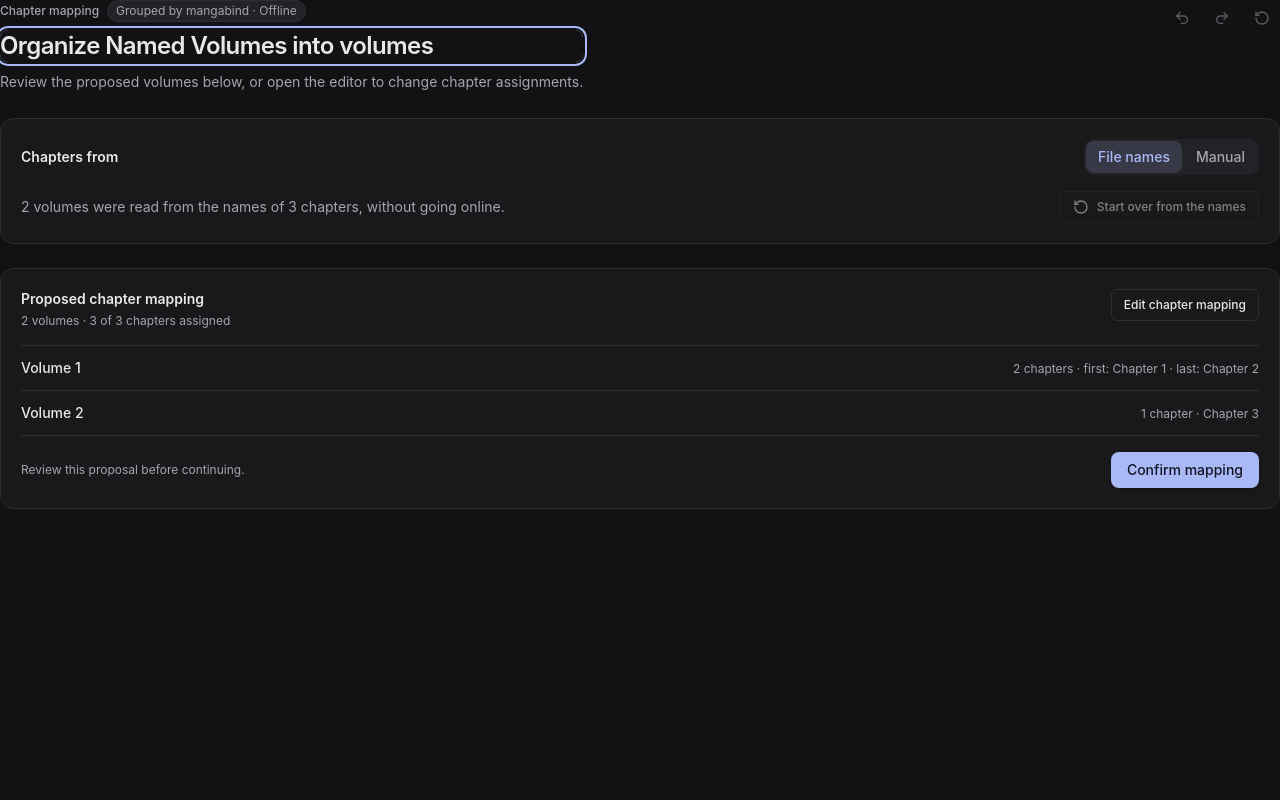
mapping editor › opens on mangabind's own grouping, ready to confirm, and says so only while it is unchanged
The width and height of the screenshot is (1280, 800).
Expected: the text "Grouped by mangabind · Offline" is shown, [107,0,306,22]
Expected: the text "2 volumes · 3 of 3 chapters assigned" is shown, [21,313,230,329]
Click the button "Edit chapter mapping".
click(1185, 305)  # box [1111,289,1259,321]
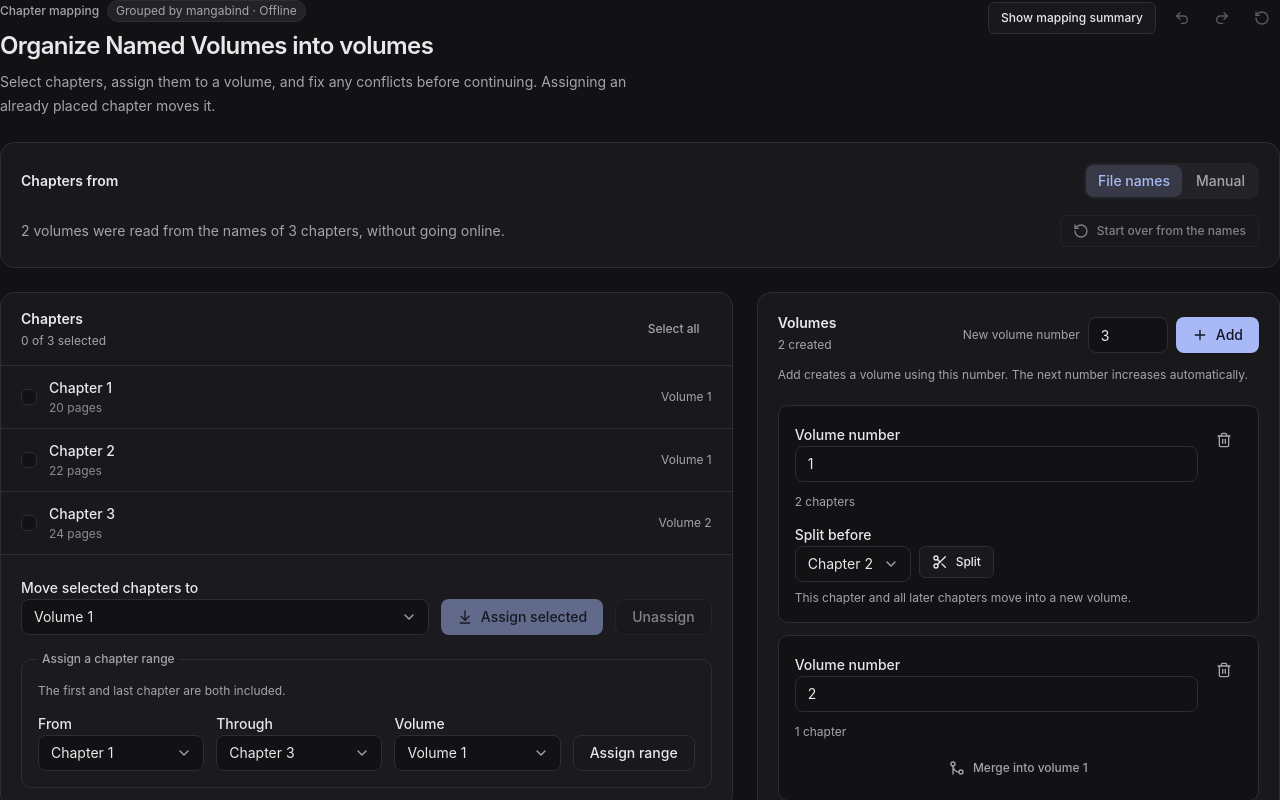
Expected: the text "Volume 2" is shown, [659,515,712,531]
Click the button "Show mapping summary".
click(1072, 18)  # box [988,2,1156,34]
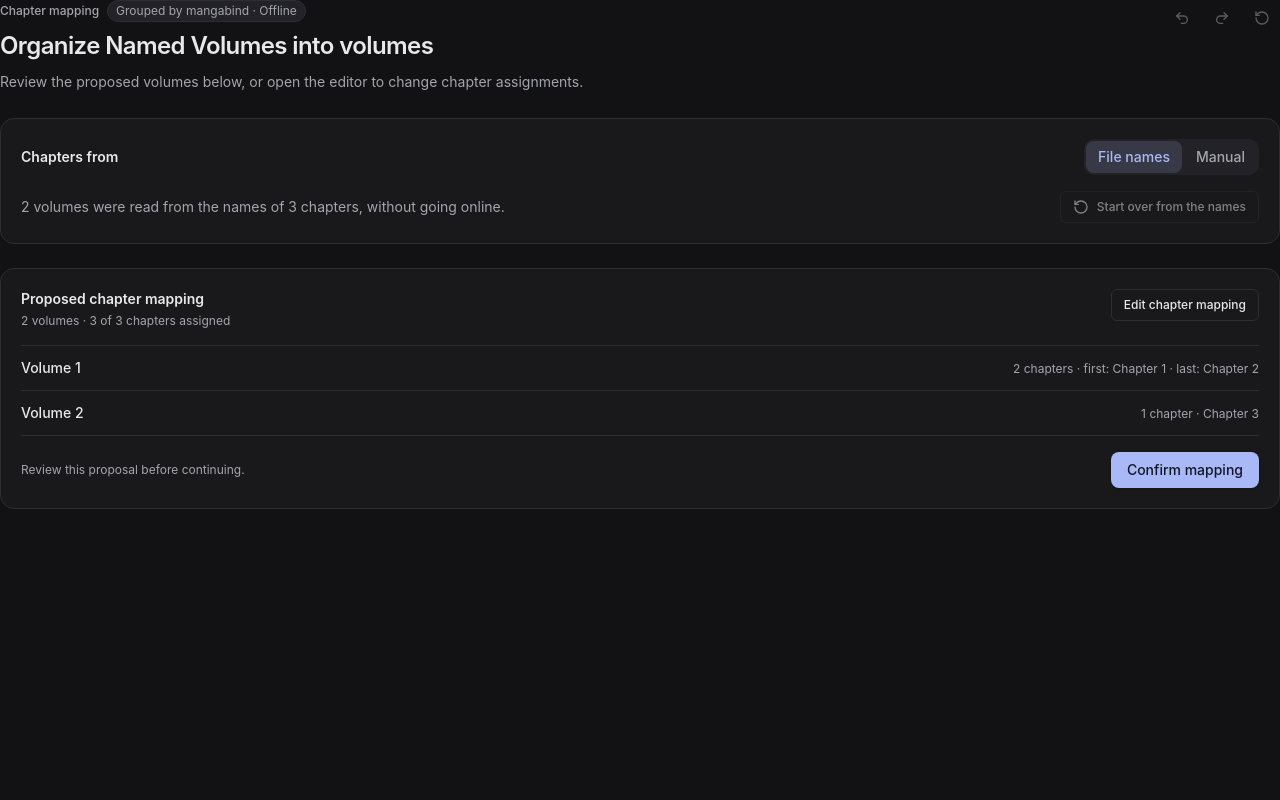
Expected: the element "Proposed chapter mapping" is shown, [0,268,1279,509]
Click the button "Edit chapter mapping".
click(1185, 305)  # box [1111,289,1259,321]
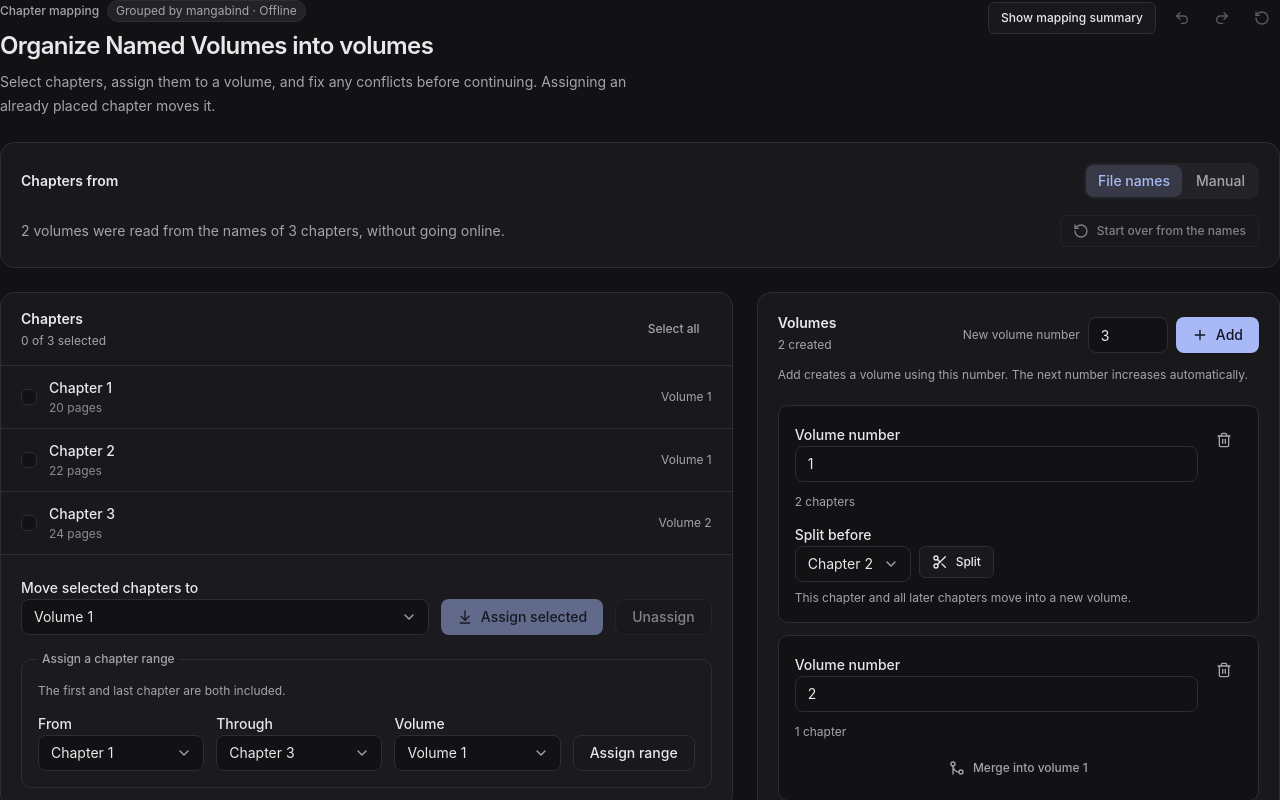
Click the checkbox named "Select Chapter 3".
click(29, 523)  # box [21,515,37,531]
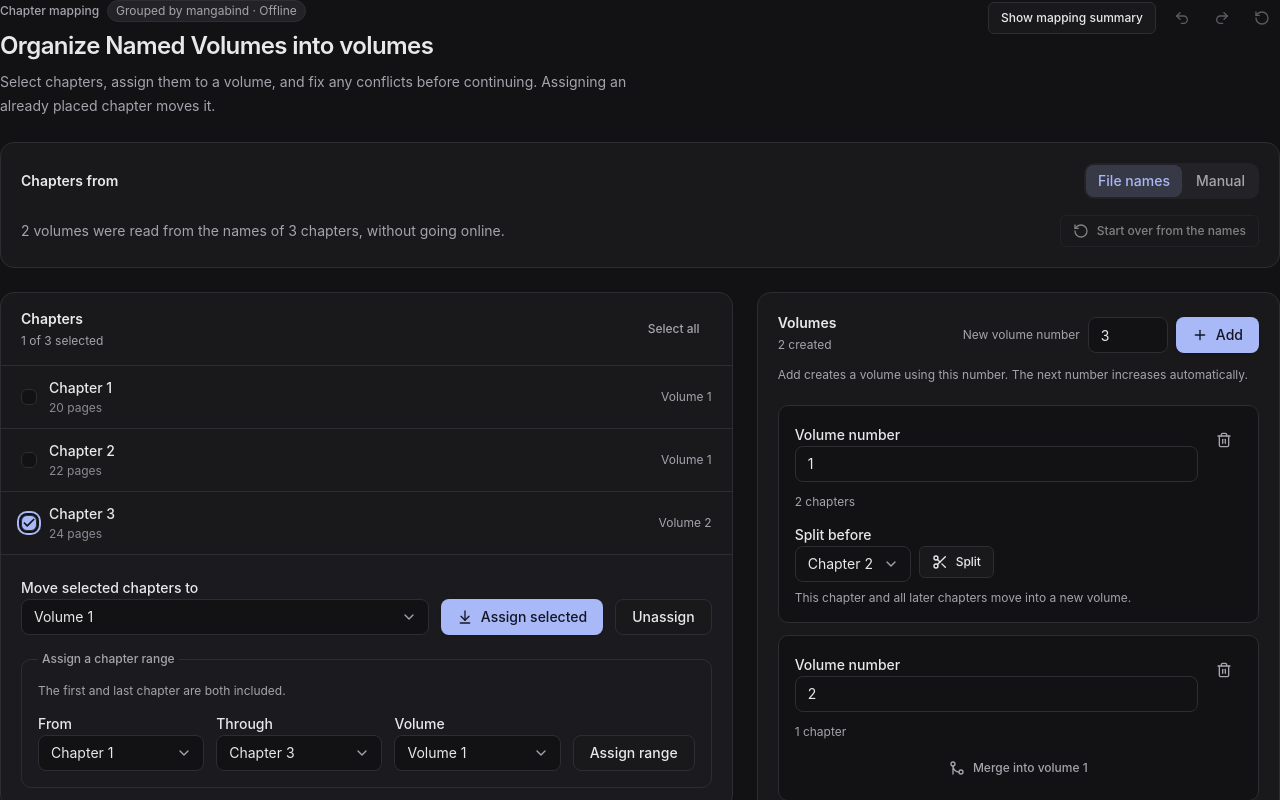
Select "Volume 1" in the dropdown labelled "Move selected chapters to" at point(225, 617), box [21,599,429,635]
Click the button "Assign selected".
click(522, 617)  # box [441,599,603,635]
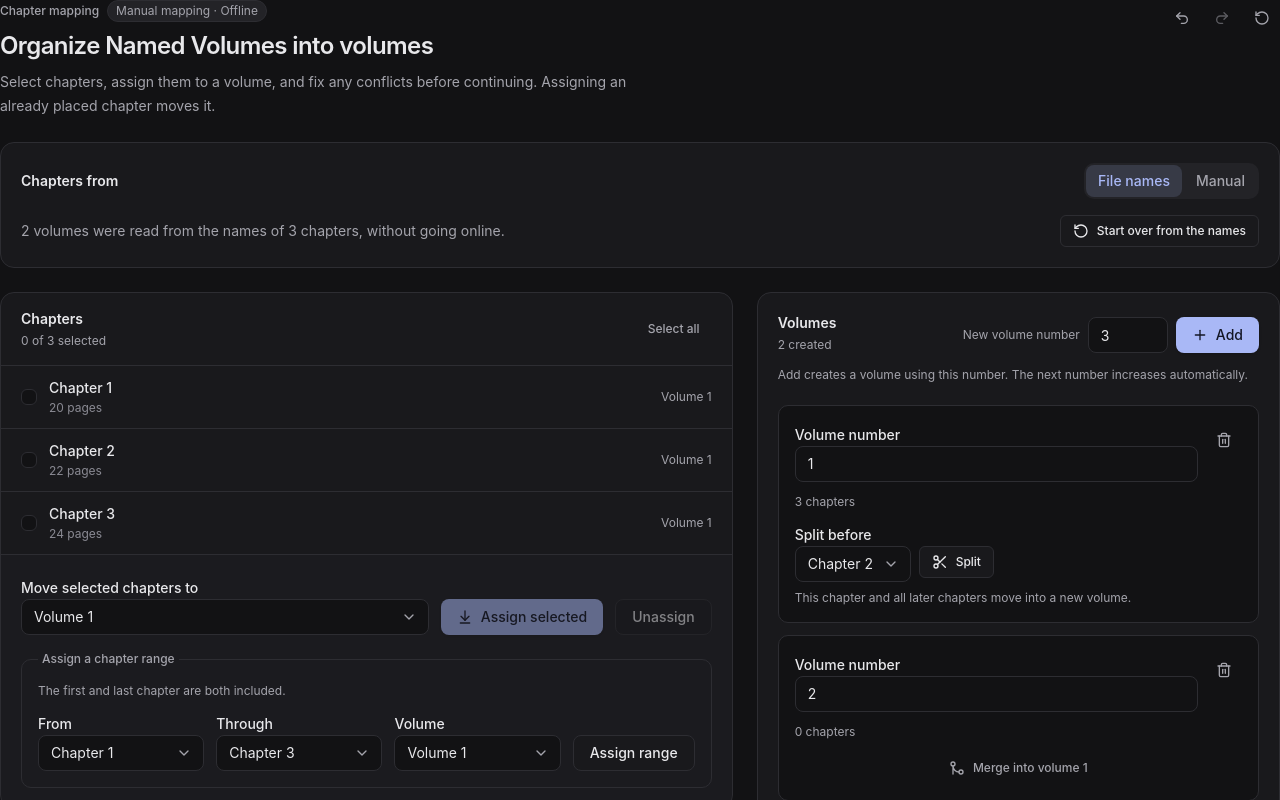
Expected: the text "Manual mapping · Offline" is shown, [107,0,267,22]
Expected: the text "Grouped by mangabind · Offline" is gone
Click the button named "Undo last mapping edit".
click(1182, 18)  # box [1164,0,1200,36]
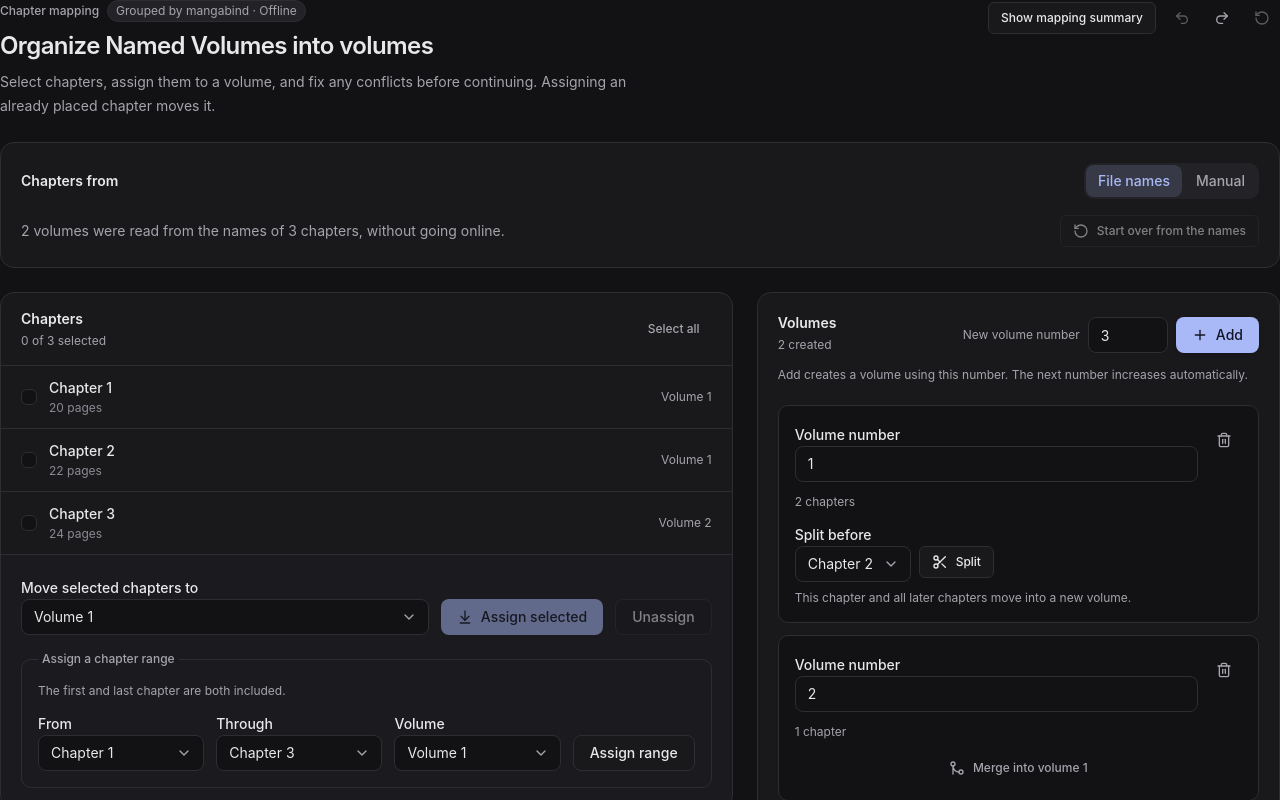
Expected: the text "Grouped by mangabind · Offline" is shown, [107,0,306,22]
